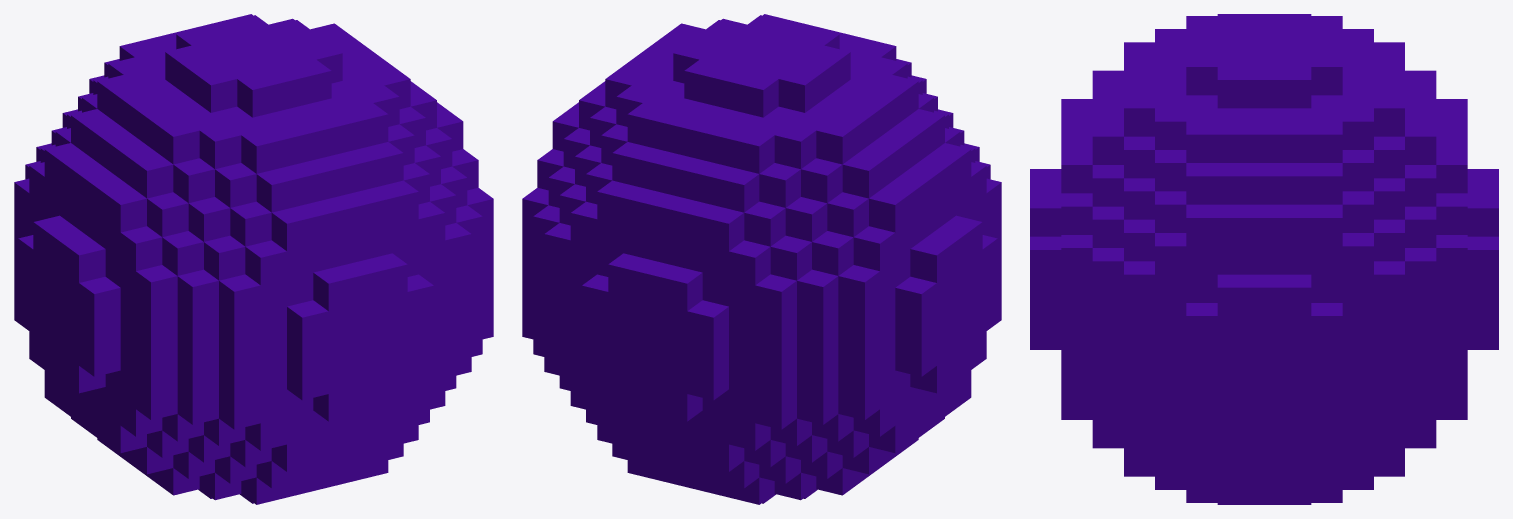
File: Purple Ball.fbx
The picture shows the model from 3 angles, left to right: view 1: azimuth 30°, elevation 25°; view 2: azimuth 150°, elevation 25°; view 3: azimuth 270°, elevation 25°; orthographic projection. The views are drawn at different scales.
Parts seen in each view (by area): view 1: Untitled.001; view 2: Untitled.001; view 3: Untitled.001.
Part boxes in pixels (x1=…): Untitled.001: x1=14, y1=14, x2=493, y2=504; Untitled.001: x1=522, y1=14, x2=1001, y2=504; Untitled.001: x1=1030, y1=14, x2=1498, y2=504.
Bounding box in the file's own units: 150 × 150 × 150.
